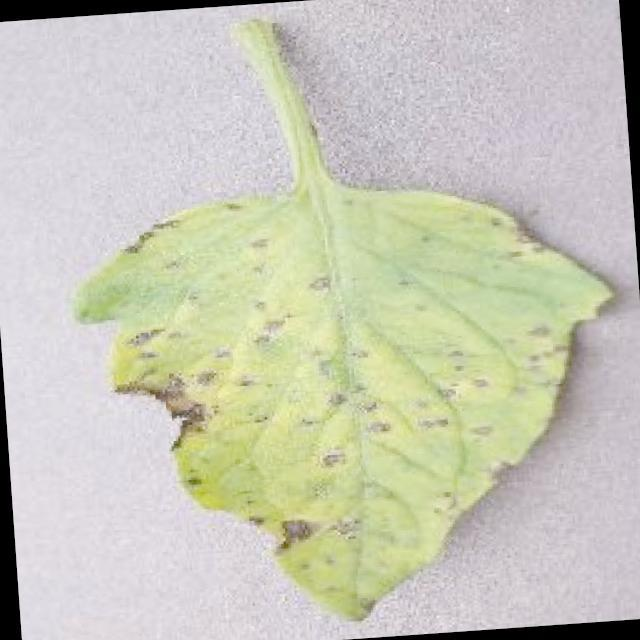Tomato Septoria spot leaf: (64, 171, 640, 640)
